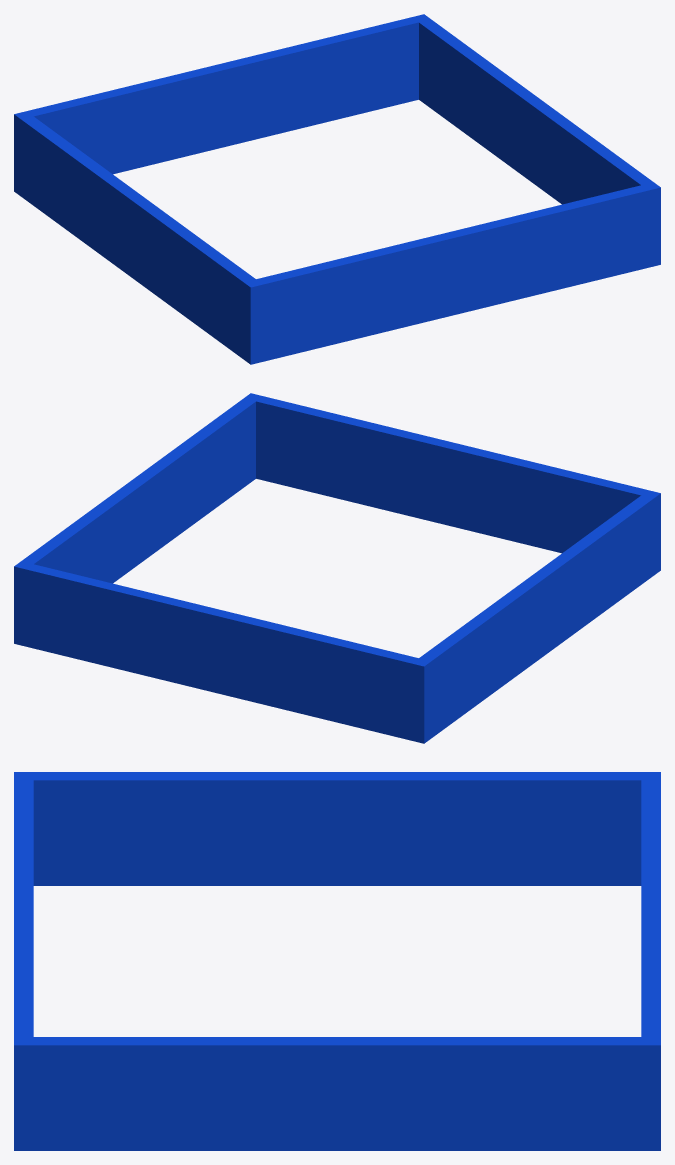
Rendered from selectorfloor.fbx.
The picture shows the model from 3 angles, top to bottom: view 1: azimuth 30°, elevation 25°; view 2: azimuth 150°, elevation 25°; view 3: azimuth 270°, elevation 25°; orthographic projection. The views are drawn at different scales.
Visible parts, largest first — view 1: Cube; view 2: Cube; view 3: Cube.
Boxes of the visible parts, x1=… form: Cube: x1=14, y1=14, x2=660, y2=364; Cube: x1=14, y1=393, x2=660, y2=743; Cube: x1=14, y1=772, x2=660, y2=1150.
Size of the model in its own units: 1 by 0.18 by 1.
